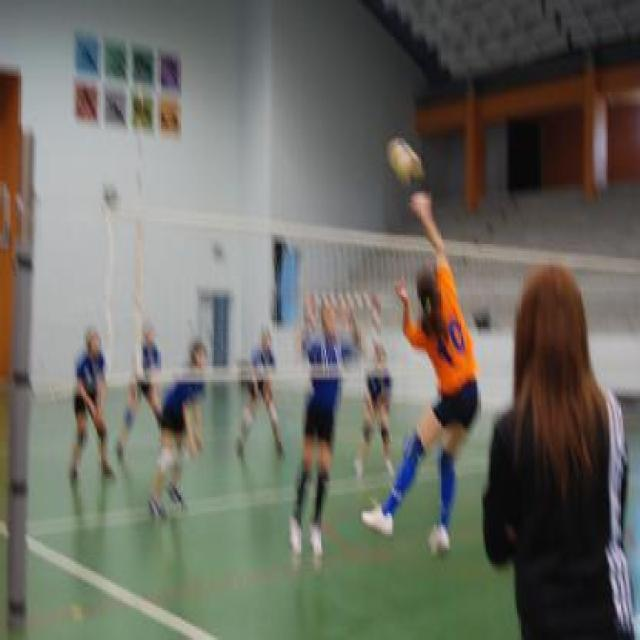volleyball: (390, 141, 422, 184)
